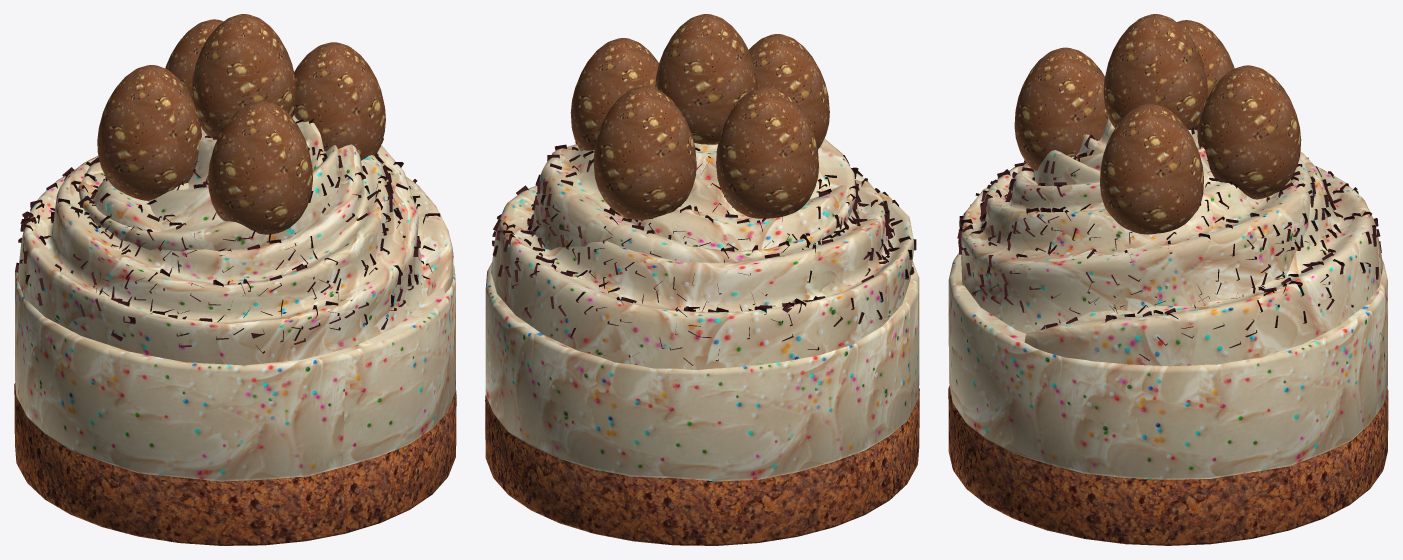
File: easter_decoration_-_lowpoly_cake.glb
3 views of the same model, side by side, from view 1: azimuth 30°, elevation 25°; view 2: azimuth 150°, elevation 25°; view 3: azimuth 270°, elevation 25° (orthographic).
Parts seen in each view (by area): view 1: Cylinder, Plane, Egg01.001, Egg01.002, Egg01, Egg01.004, Egg01.003; view 2: Cylinder, Plane, Egg01.003, Egg01.002, Egg01, Egg01.004, Egg01.001; view 3: Cylinder, Plane, Egg01.004, Egg01.003, Egg01, Egg01.001, Egg01.002.
Part boxes in pixels (bbox=[...]): Cylinder: bbox=[14, 264, 456, 545]; Plane: bbox=[17, 115, 453, 365]; Egg01.001: bbox=[208, 100, 312, 234]; Egg01.002: bbox=[97, 65, 201, 200]; Egg01: bbox=[191, 14, 296, 138]; Egg01.004: bbox=[293, 42, 385, 160]; Egg01.003: bbox=[165, 19, 223, 98]; Cylinder: bbox=[485, 261, 919, 545]; Plane: bbox=[491, 138, 913, 369]; Egg01.003: bbox=[593, 86, 696, 220]; Egg01.002: bbox=[716, 86, 818, 218]; Egg01: bbox=[655, 14, 757, 144]; Egg01.004: bbox=[570, 38, 658, 150]; Egg01.001: bbox=[748, 34, 829, 149]; Cylinder: bbox=[948, 253, 1388, 545]; Plane: bbox=[961, 118, 1383, 366]; Egg01.004: bbox=[1100, 103, 1203, 234]; Egg01.003: bbox=[1197, 65, 1301, 199]; Egg01: bbox=[1103, 14, 1207, 129]; Egg01.001: bbox=[1014, 47, 1108, 171]; Egg01.002: bbox=[1177, 20, 1234, 98].
Size of the model in its own units: 2.53 by 2.79 by 2.53.
Materials: 4 (3 with a texture image).
